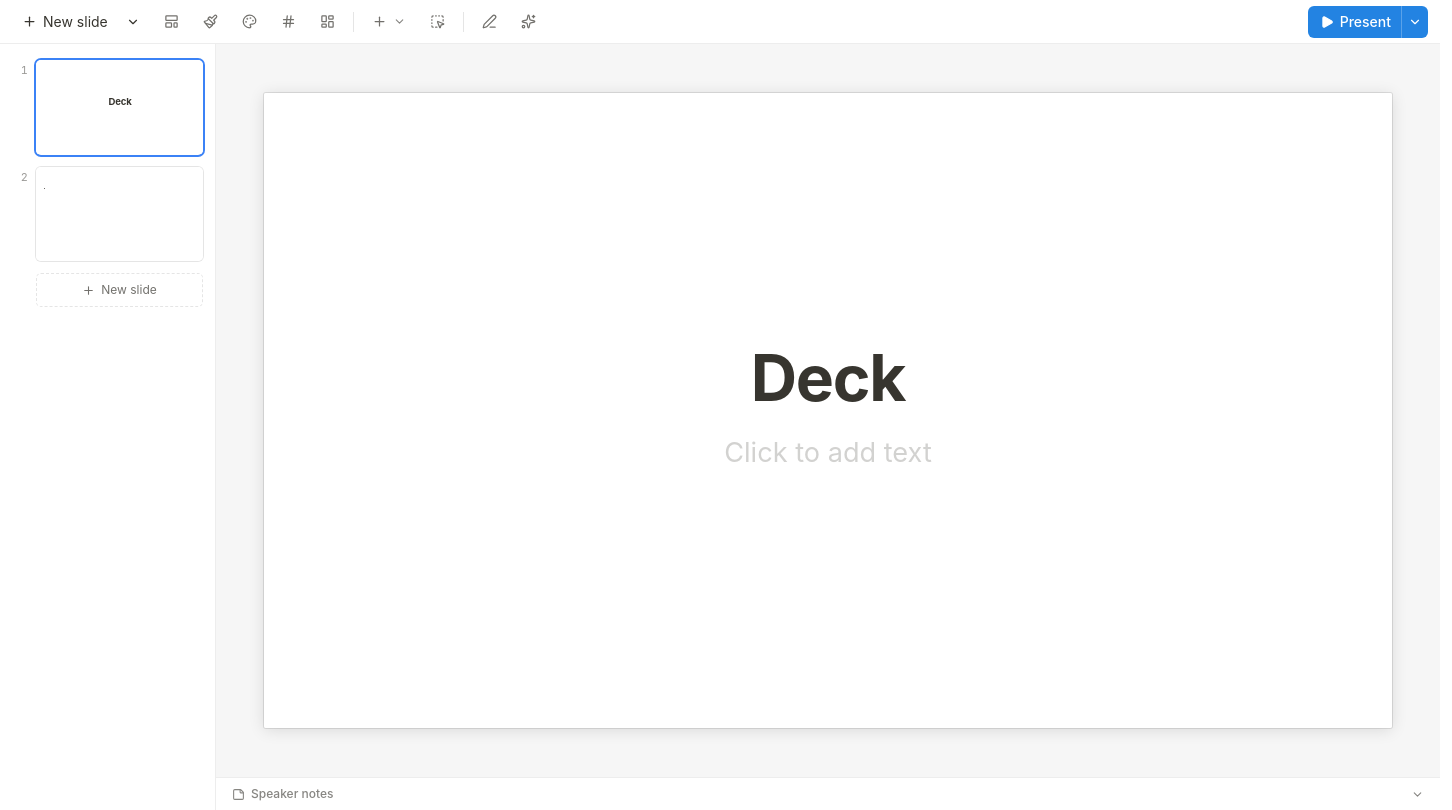
it: PresentationPage › animations panel: transition, and click animations for the block at the cursor
Later steps or results of the test are not shown.
Expected: the list named "Slides" is shown, [0, 44, 216, 809]
Press the mouse on the option "2" at (108, 214), box [12, 166, 203, 261]
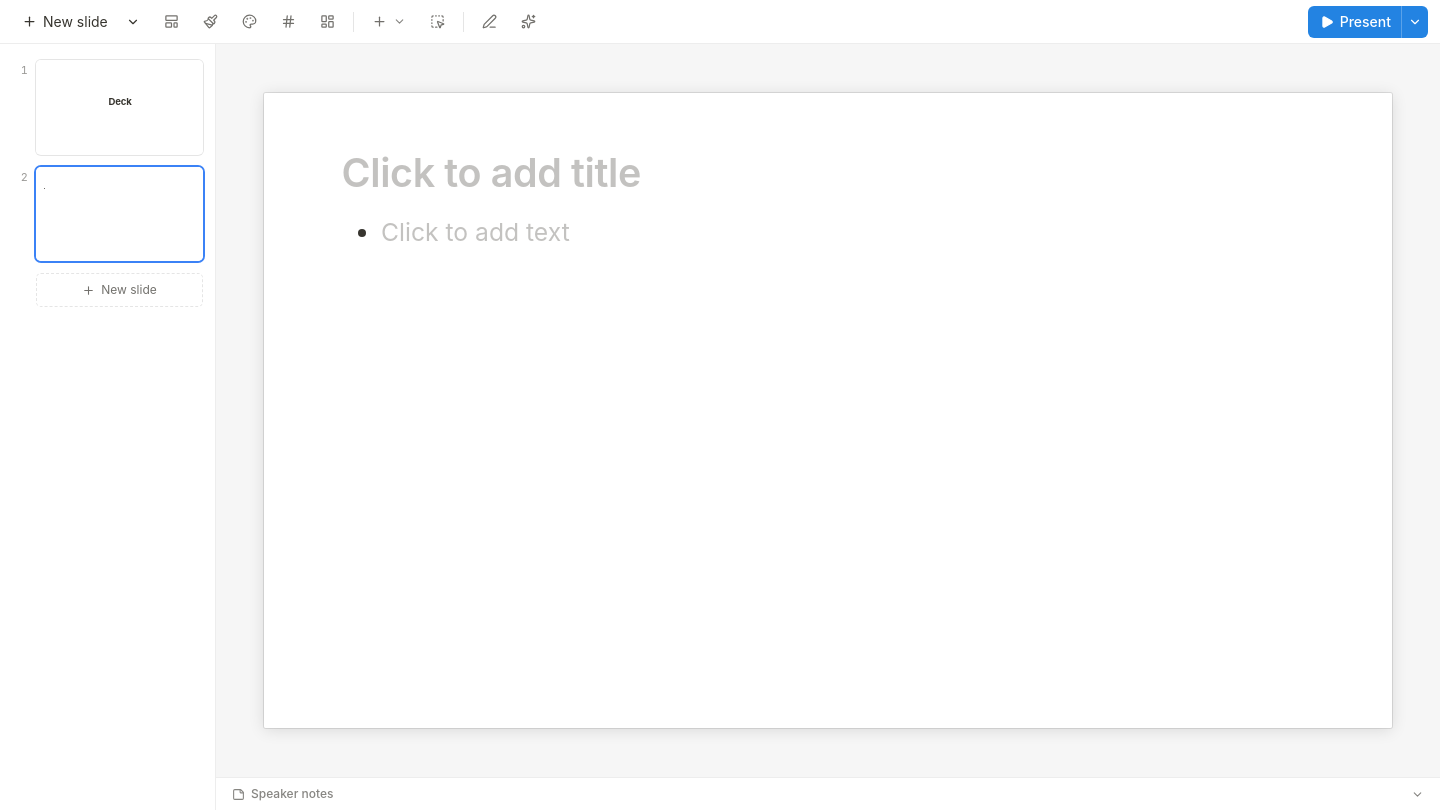
Click the button named "Animations" at (528, 22), box [511, 6, 546, 38]
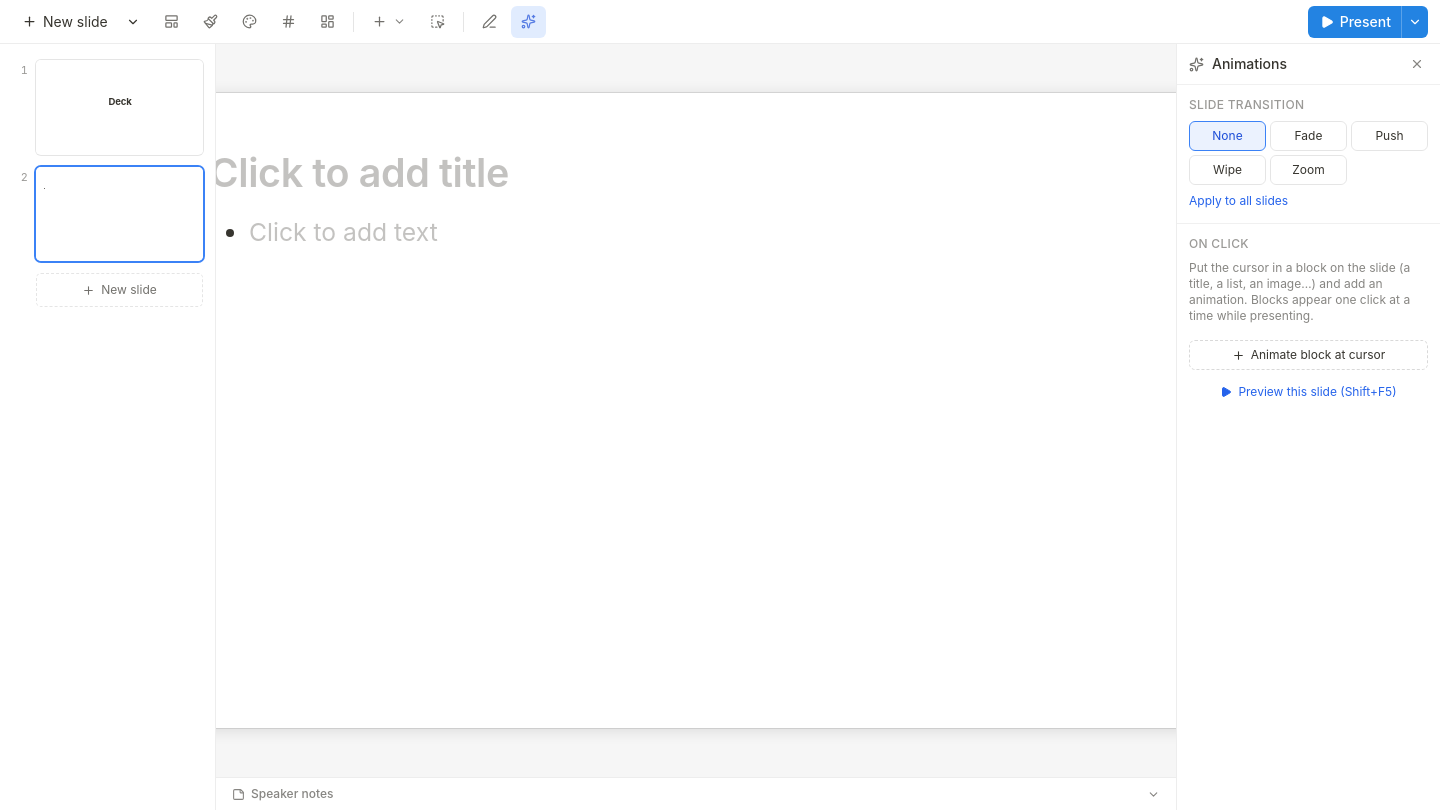
Click the radio button labelled "Fade" at (1308, 136), box [1270, 121, 1347, 151]
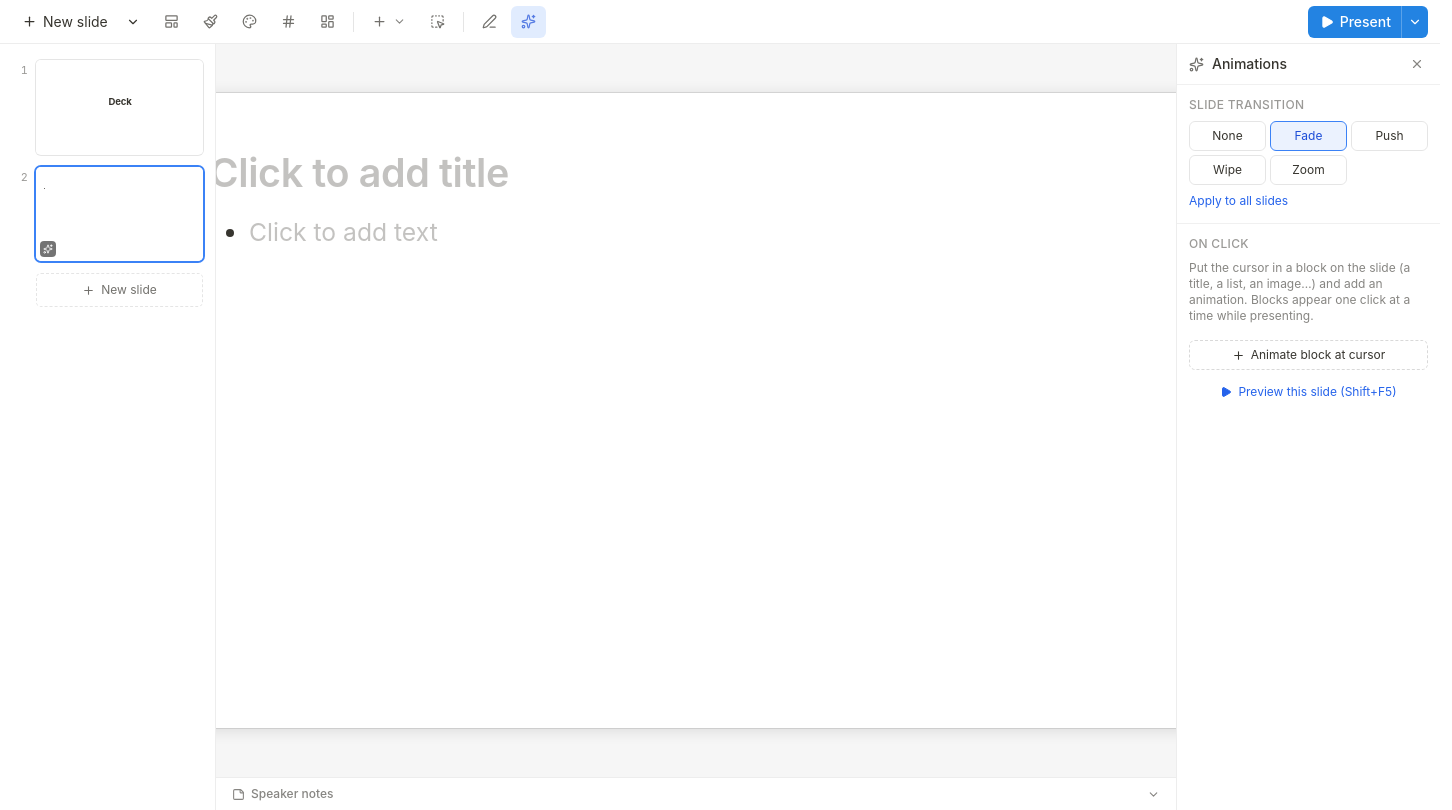
Result: the button "Animate block at cursor" is enabled
# Cursor in the list (2nd block).
Click the button "Animate block at cursor" at (1308, 355), box [1189, 340, 1428, 370]
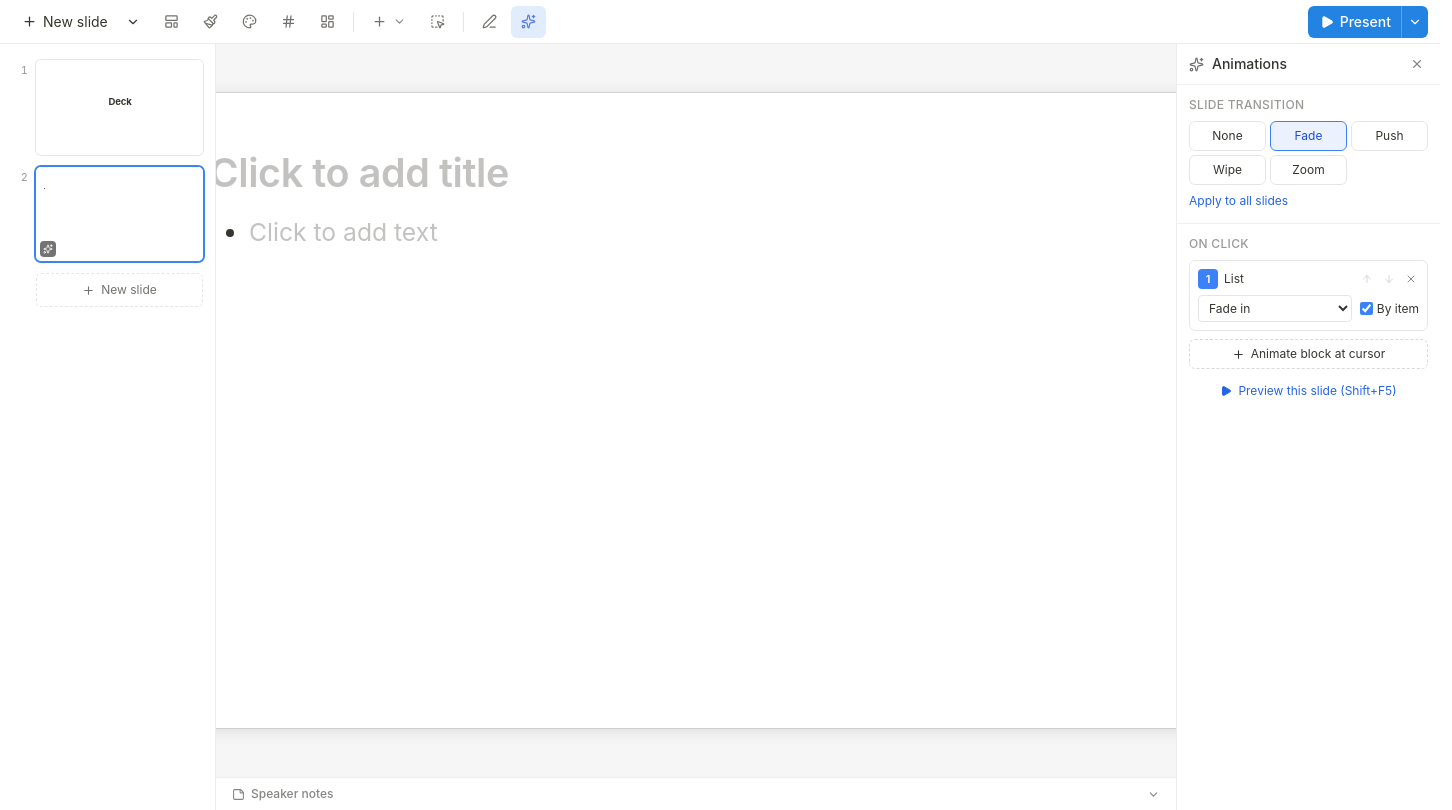
Click the button "Animate block at cursor" at (1308, 354), box [1189, 339, 1428, 369]
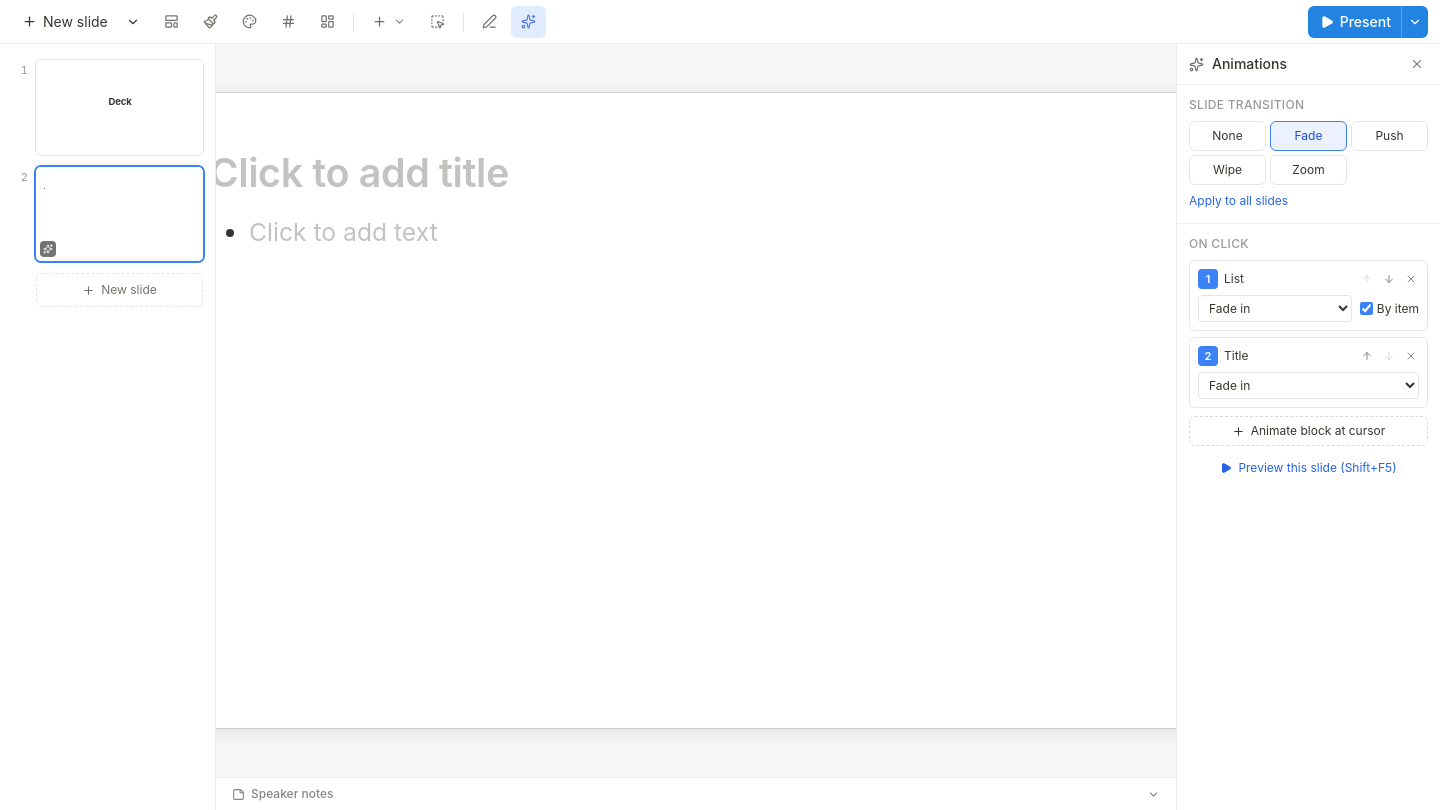
Result: the list item with test id "animation-item" shows "List" at [1224, 271, 1353, 287]
Result: the checkbox labelled "By item" is checked at [1360, 302, 1373, 315]
Result: the number of list items with test id "animation-item" is 2 at [1189, 260, 1428, 331]; [1189, 337, 1428, 408]
